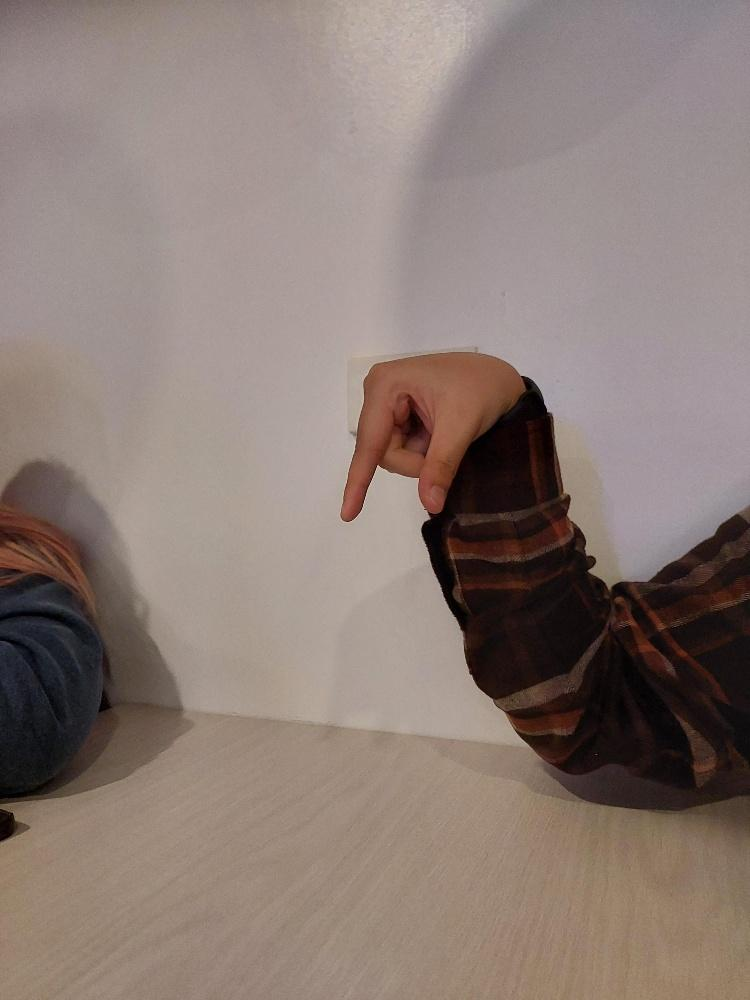q: (336, 345, 530, 525)
